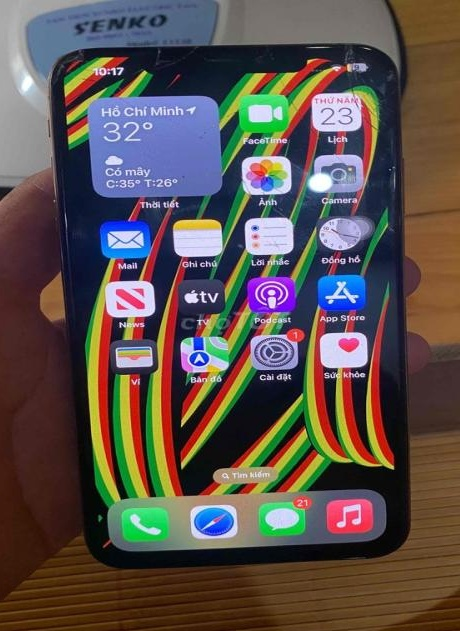physical_damage: (52, 46, 399, 249)
